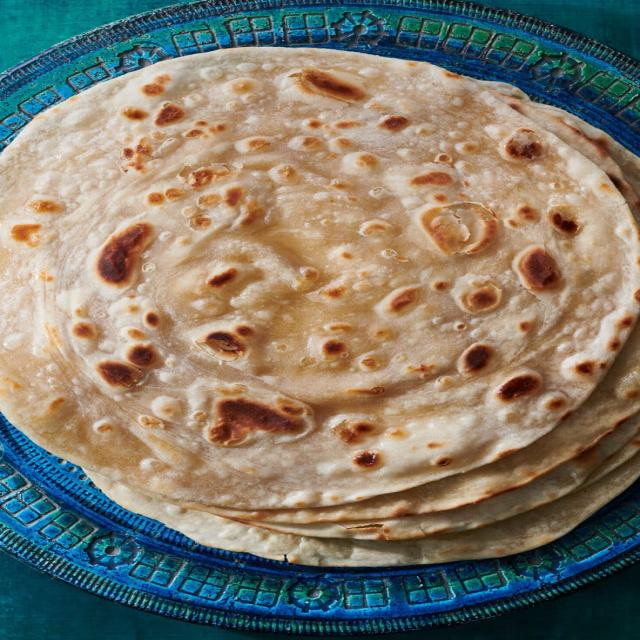chapathi: (0, 33, 640, 517)
